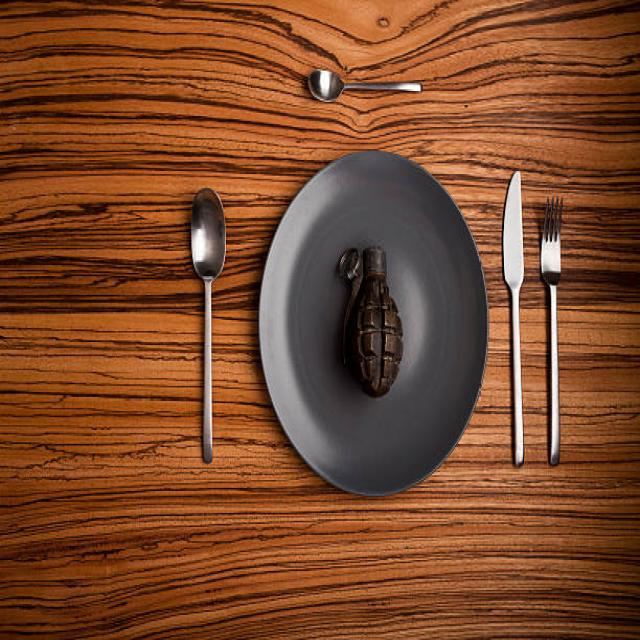grenade: (338, 240, 407, 405)
